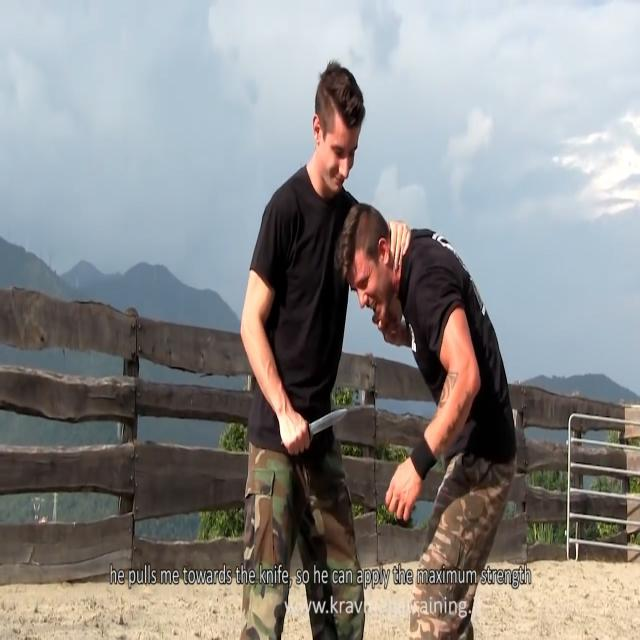knife: (305, 407, 353, 448)
